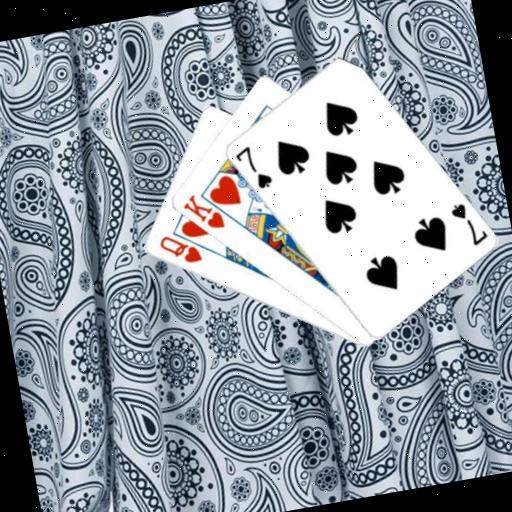7S: (445, 196, 490, 252), (230, 140, 275, 195)
KH: (177, 187, 227, 236)
QH: (154, 227, 204, 271)
